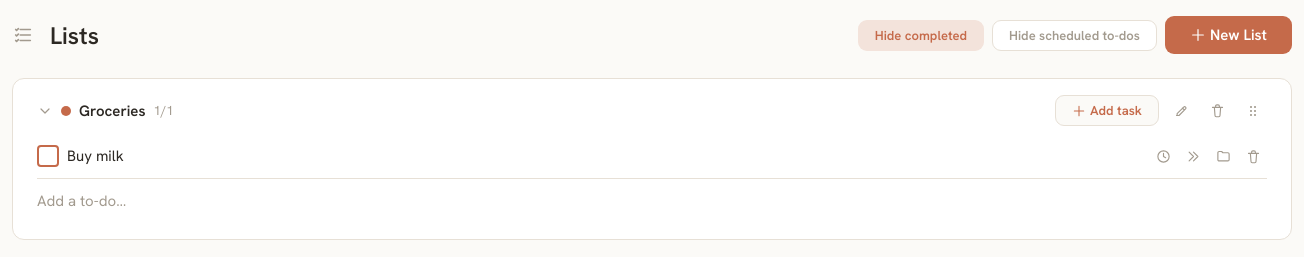
Test case: ListsPage › toggles the completed filter label
Click the button "Hide completed": (921, 35) [858,20,984,50]
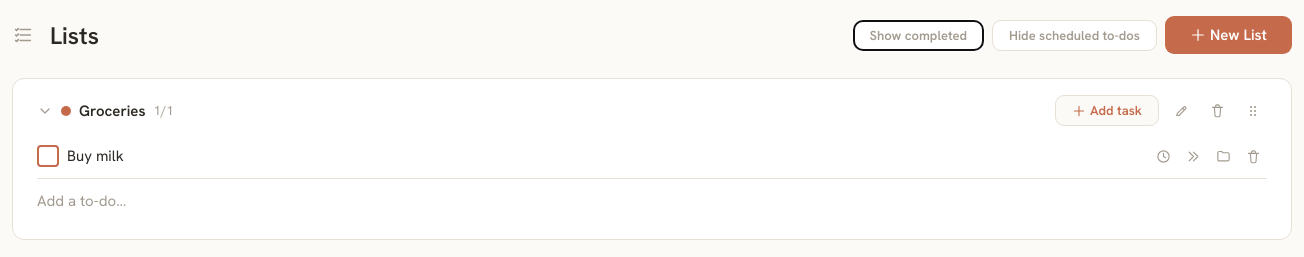
expect the button "Show completed" is shown: met, box [852,20,984,50]
